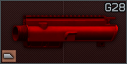HK G28 7.62x51 upper receiver: (0, 0, 127, 64)
